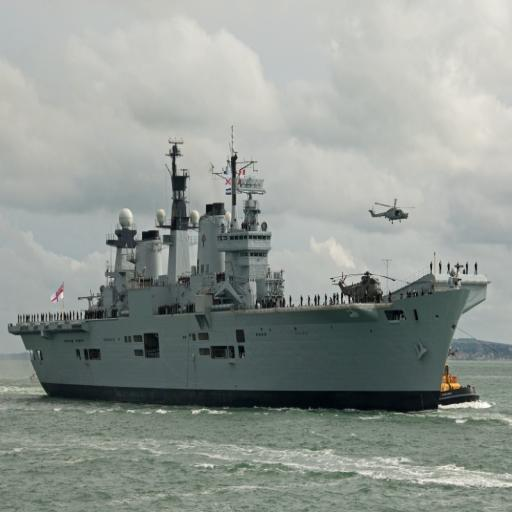Portanaves: (9, 124, 494, 416)
